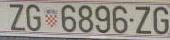6: (112, 6, 128, 34), (61, 4, 76, 33)
8: (79, 5, 93, 33)
9: (95, 5, 111, 34)
G: (153, 6, 169, 34), (26, 4, 41, 31)
Z: (135, 6, 152, 34), (9, 4, 26, 31)
